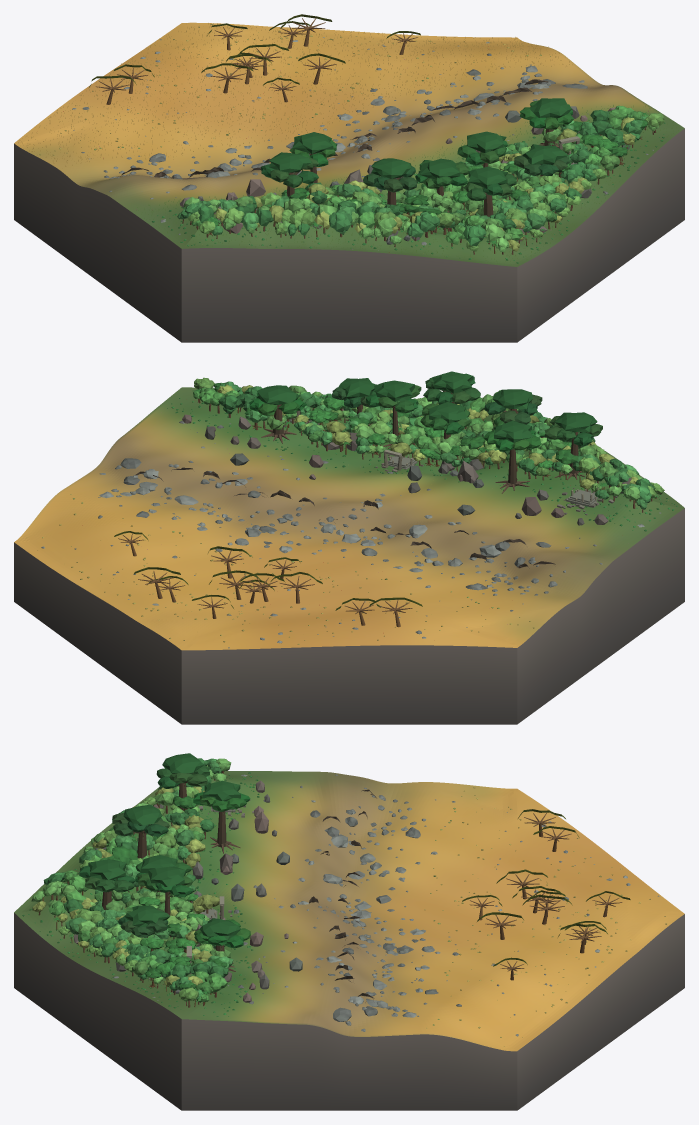
The picture shows the model from 3 angles, top to bottom: view 1: azimuth 30°, elevation 25°; view 2: azimuth 150°, elevation 25°; view 3: azimuth 270°, elevation 25°; orthographic projection.
Parts seen in each view (by area): view 1: terrain, hex_side_cut, broadleaf_canopy, ancient-crowns, wildflowers, boulders, fault-stone, branches, trunks, shrubs, rock_escarpments, monumental-trunks; view 2: terrain, hex_side_cut, broadleaf_canopy, ancient-crowns, boulders, fault-stone, branches, trunks, shrubs, monumental-trunks, ruin-masonry, rock_escarpments; view 3: terrain, hex_side_cut, broadleaf_canopy, ancient-crowns, boulders, fault-stone, branches, shrubs, trunks, monumental-trunks, rock_escarpments.
Part boxes in pixels (box(x1,y1,x2,y2)): terrain: box(14, 22, 684, 266); hex_side_cut: box(14, 128, 684, 342); broadleaf_canopy: box(89, 14, 664, 252); ancient-crowns: box(261, 98, 573, 200); wildflowers: box(18, 23, 678, 265); boulders: box(72, 37, 653, 250); fault-stone: box(180, 106, 630, 244); branches: box(95, 18, 643, 214); trunks: box(106, 29, 656, 254); shrubs: box(39, 24, 665, 263); rock_escarpments: box(116, 79, 548, 179); monumental-trunks: box(287, 129, 555, 216); terrain: box(14, 387, 684, 650); hex_side_cut: box(14, 508, 684, 724); broadleaf_canopy: box(114, 377, 664, 610); ancient-crowns: box(249, 371, 602, 451); boulders: box(41, 420, 661, 648); fault-stone: box(182, 408, 631, 525); branches: box(118, 408, 528, 613); trunks: box(130, 398, 656, 627); shrubs: box(27, 398, 677, 644); monumental-trunks: box(272, 392, 578, 486); ruin-masonry: box(289, 410, 598, 506); rock_escarpments: box(135, 467, 555, 568); terrain: box(14, 771, 684, 1051); hex_side_cut: box(14, 913, 684, 1110); broadleaf_canopy: box(31, 758, 630, 1002); ancient-crowns: box(79, 753, 250, 948); boulders: box(79, 774, 659, 1036); fault-stone: box(73, 780, 302, 1002); branches: box(148, 809, 622, 985); shrubs: box(22, 772, 666, 1046); trunks: box(38, 771, 608, 1007); monumental-trunks: box(102, 783, 226, 951); rock_escarpments: box(309, 789, 376, 1002).
Bounding box in the file's own units: 4330 × 1314 × 5000.
